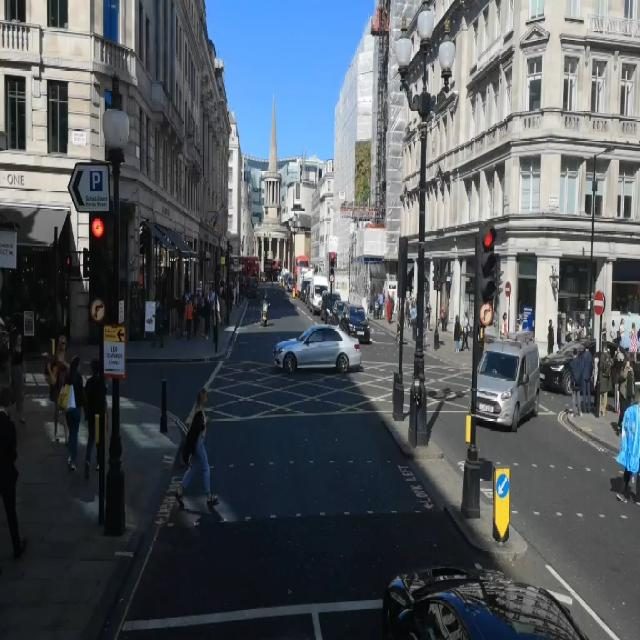pedestrian: (176, 388, 217, 508)
